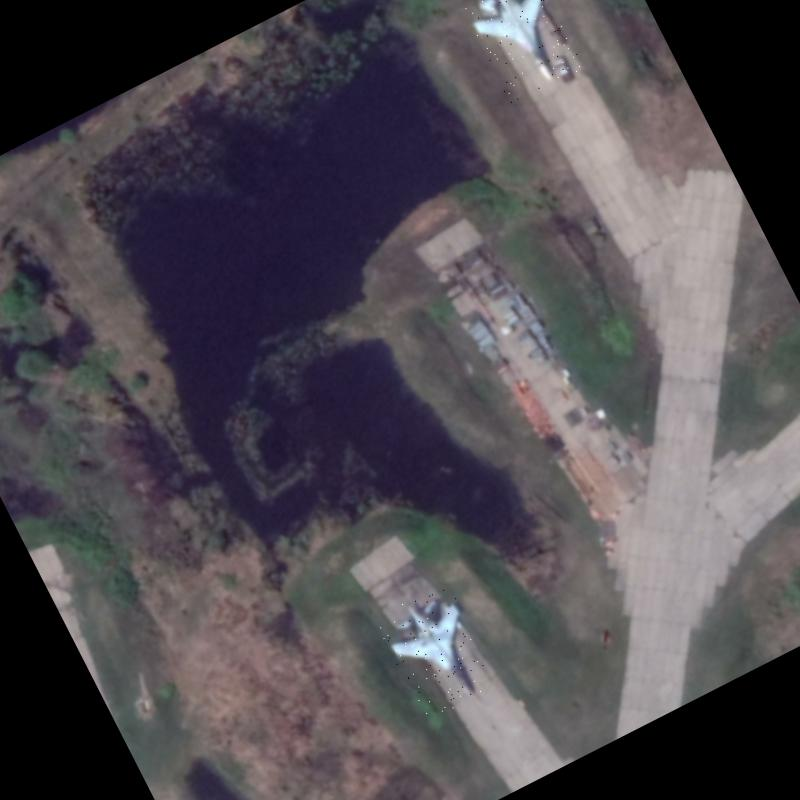A1: (373, 580, 500, 722), (455, 0, 584, 105)
